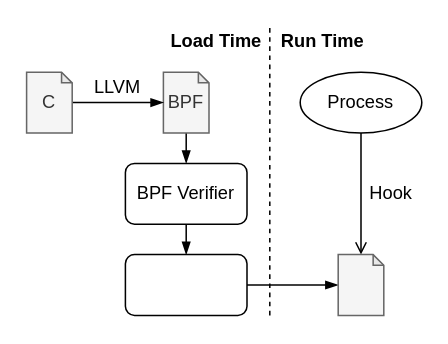
The diagram is 448 pixels wide and 344 high, and some of its shapes have lost their labels. Each missing label, with the box of its shape:
BPF JIT: (124, 253, 247, 315)
x86: (337, 253, 384, 315)
